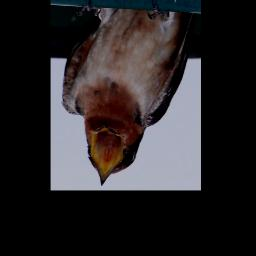Swallow: (61, 0, 196, 186)
